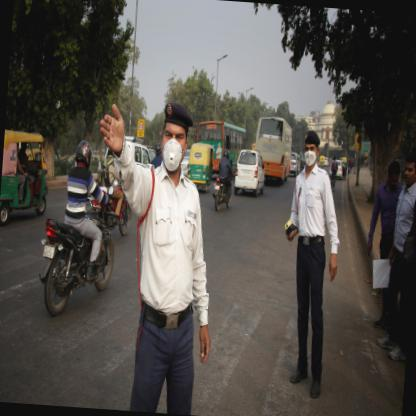bus: (252, 114, 295, 186), (194, 121, 247, 176)
car: (235, 152, 266, 198)
motorcycle: (37, 137, 122, 319), (210, 150, 236, 212)
